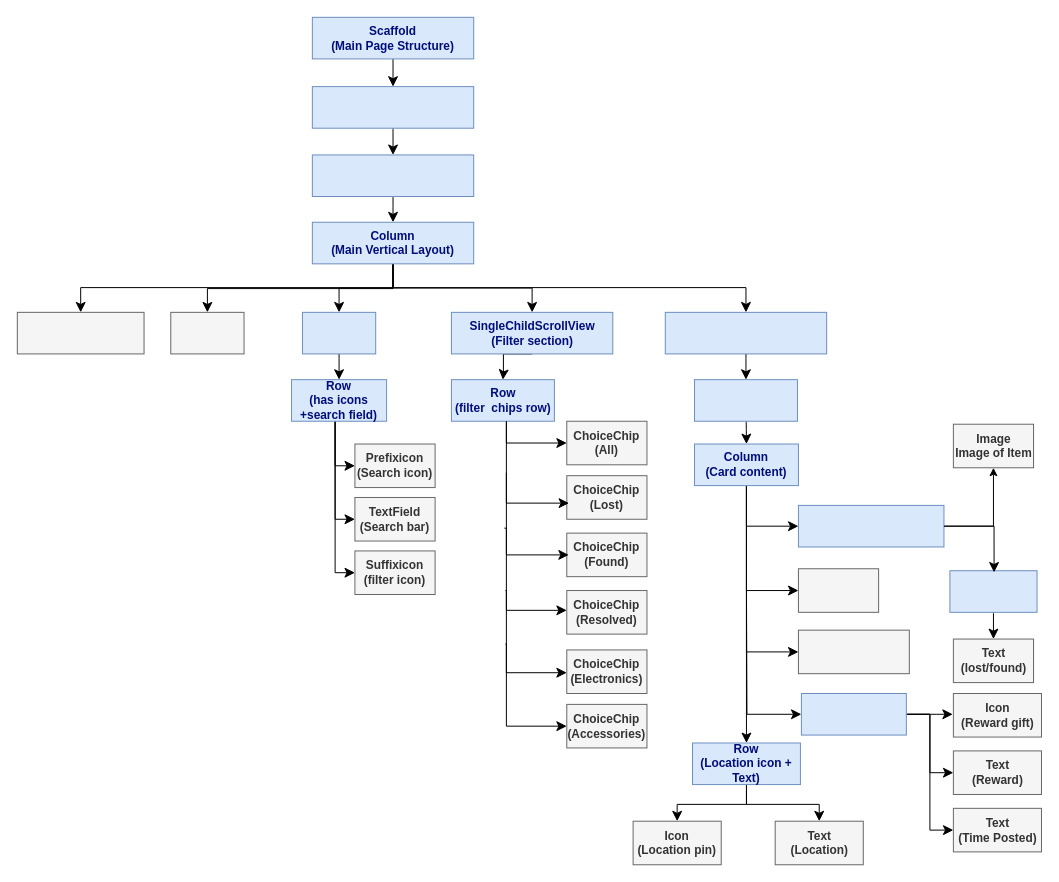
This 1059x882 diagram has some shape labels left out. The shapes that lost their labels are listed below. From the top down, each one's box as (x1, y1, x2, y2) in pixels, then its label:
(311, 86, 474, 128): SafeArea (Keeps content on Screen)
(311, 154, 474, 197): Container (Home Screen body)
(16, 311, 144, 354): Image (Findr Logo/Title)
(170, 311, 244, 354): Text (Tagline)
(301, 311, 376, 354): Container (Search)
(664, 311, 827, 354): GridView (Item cards)
(693, 379, 797, 421): Card (repeated) (An Item Report)
(797, 504, 944, 547): Stack (Item image + Status tag)
(797, 568, 879, 612): Text (Item Name)
(949, 570, 1037, 612): Container (Status Tag)
(797, 629, 909, 674): Text (Short Description)
(800, 693, 906, 735): Row (Reward + Time posted)
